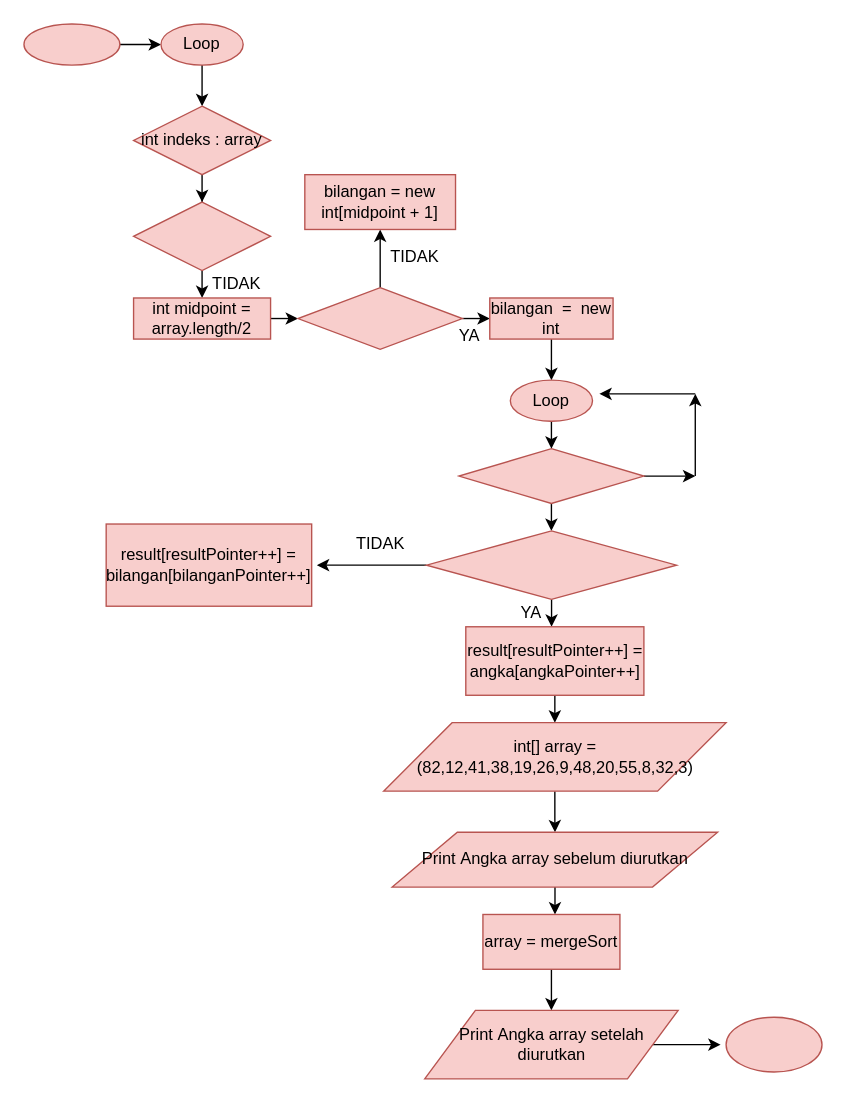
This 847x1103 diagram has some shape labels left out. Each missing label, with the box of its shape:
if angka[angkaPointer] < bilangan[bilanganPointer]: (425, 530, 677, 599)
if array <= 1): (132, 201, 271, 271)
if array.length % 2 == 0: (297, 286, 462, 349)
int j=0; j < bilangan; j++: (458, 447, 644, 503)
Mulai: (23, 23, 120, 65)
Selesai: (725, 1016, 822, 1072)
